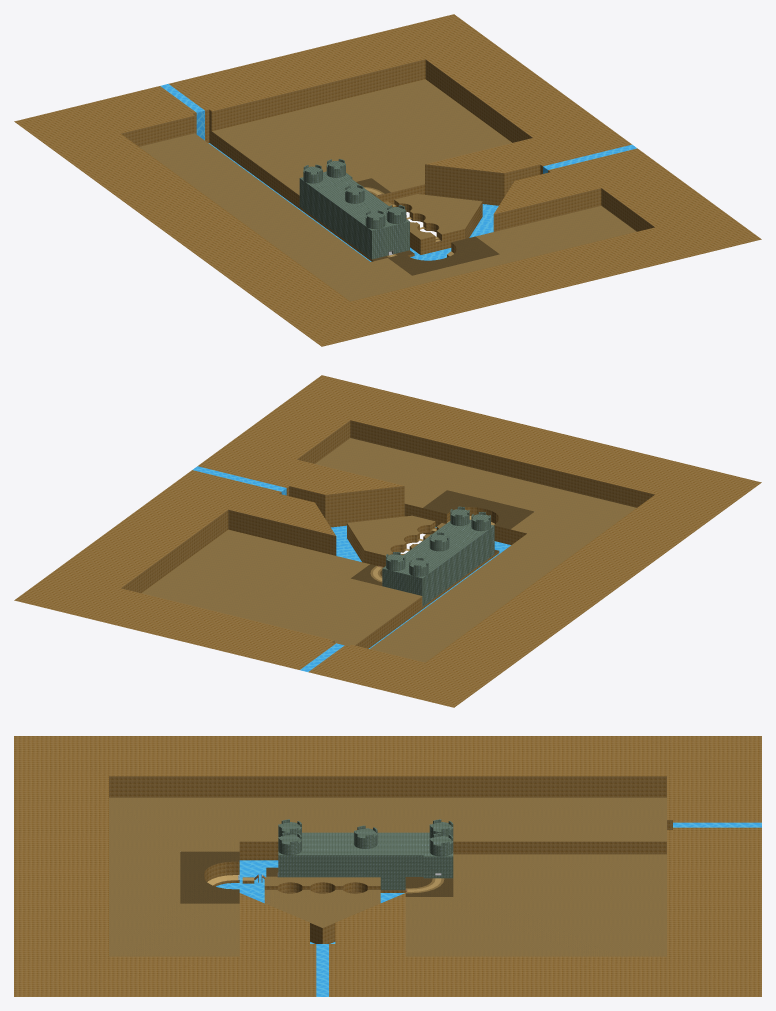
3 views of the same model, one above another, from view 1: azimuth 30°, elevation 25°; view 2: azimuth 150°, elevation 25°; view 3: azimuth 270°, elevation 25° (orthographic). The views are drawn at different scales.
Parts seen in each view (by area): view 1: literalwaste_SKP__wallRock.001, literalwaste_SKP__offroadSand.001, literalwaste_SKP__wallFortress1.001, literalwaste_SKP__waterWave1.001, literalwaste_SKP__outofboundsSand.001; view 2: literalwaste_SKP__wallRock.001, literalwaste_SKP__offroadSand.001, literalwaste_SKP__wallFortress1.001, literalwaste_SKP__outofboundsSand.001, literalwaste_SKP__waterWave1.001; view 3: literalwaste_SKP__wallRock.001, literalwaste_SKP__offroadSand.001, literalwaste_SKP__wallFortress1.001, literalwaste_SKP__outofboundsSand.001, literalwaste_SKP__waterWave1.001.
Part boxes in pixels (box(x1,y1,x2,y2)): literalwaste_SKP__wallRock.001: box(14, 14, 761, 346); literalwaste_SKP__offroadSand.001: box(139, 79, 636, 301); literalwaste_SKP__wallFortress1.001: box(299, 159, 409, 259); literalwaste_SKP__waterWave1.001: box(160, 84, 636, 261); literalwaste_SKP__outofboundsSand.001: box(356, 178, 499, 275); literalwaste_SKP__wallRock.001: box(14, 375, 761, 707); literalwaste_SKP__offroadSand.001: box(141, 438, 636, 662); literalwaste_SKP__wallFortress1.001: box(382, 506, 494, 606); literalwaste_SKP__outofboundsSand.001: box(351, 490, 534, 585); literalwaste_SKP__waterWave1.001: box(192, 466, 510, 671); literalwaste_SKP__wallRock.001: box(14, 736, 761, 996); literalwaste_SKP__offroadSand.001: box(109, 797, 666, 956); literalwaste_SKP__wallFortress1.001: box(278, 819, 453, 890); literalwaste_SKP__outofboundsSand.001: box(180, 851, 453, 903); literalwaste_SKP__waterWave1.001: box(216, 822, 761, 996).
Size of the model in its own units: 416000 by 38000 by 504000.
Materials: 20 (20 with a texture image).
